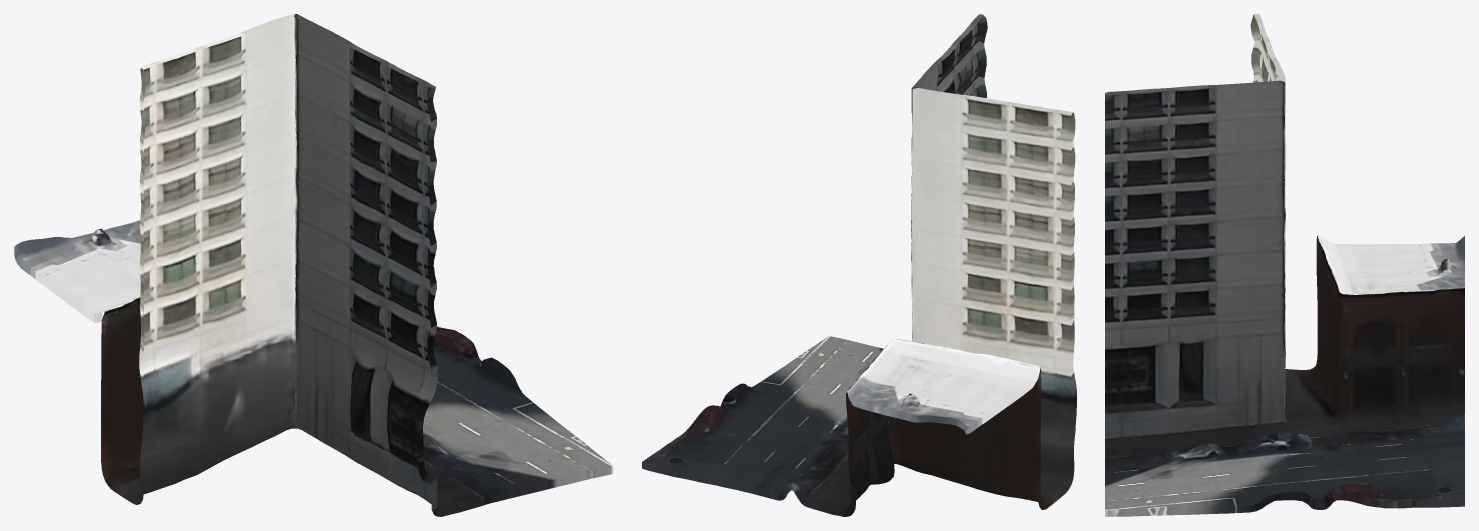
The model's file is z20-167750-405243-h0-yup-uvflip-v3-world.glb.
The picture shows the model from 3 angles, left to right: view 1: azimuth 30°, elevation 25°; view 2: azimuth 150°, elevation 25°; view 3: azimuth 270°, elevation 25°; orthographic projection. The views are drawn at different scales.
Bounding box in the file's own units: 30.16 × 33.68 × 30.32.
1 material, 1 textured.
